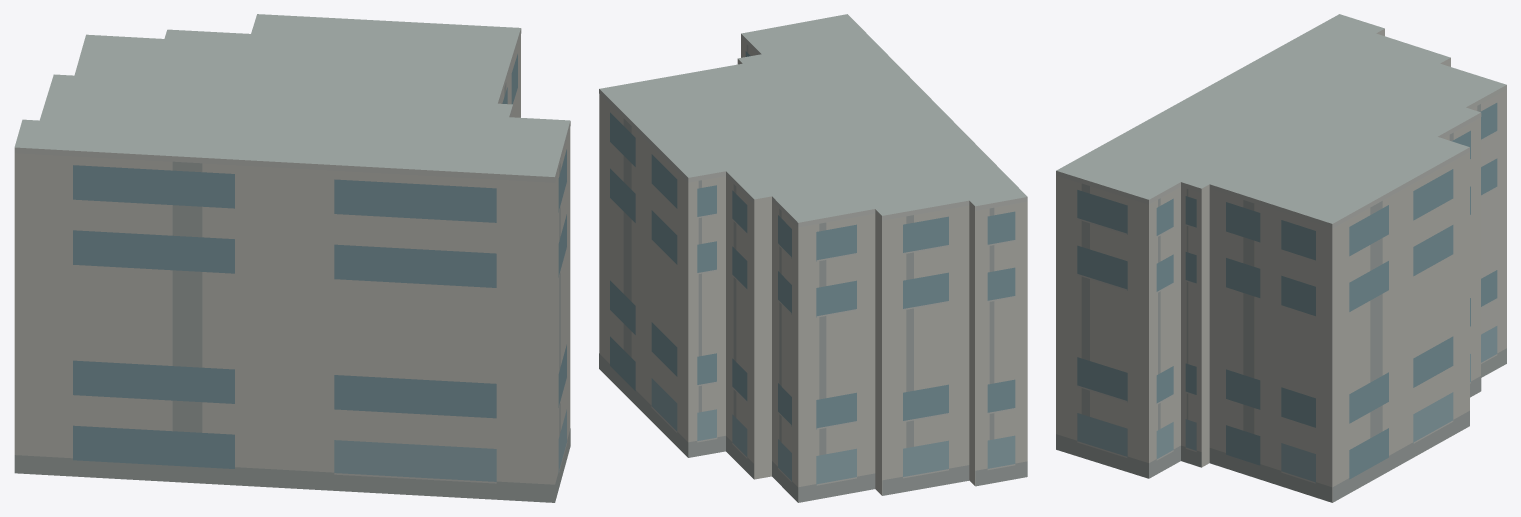
File: survey-upis-32584568.glb
3 renders of one model, left to right at view 1: azimuth 30°, elevation 25°; view 2: azimuth 150°, elevation 25°; view 3: azimuth 270°, elevation 25°, orthographic. The views are drawn at different scales.
Parts seen in each view (by area): view 1: survey-upis-32584568.tmp; view 2: survey-upis-32584568.tmp; view 3: survey-upis-32584568.tmp.
Boxes of the visible parts, x1,y1,x2,y2 form: survey-upis-32584568.tmp: [14, 14, 570, 502]; survey-upis-32584568.tmp: [599, 14, 1027, 502]; survey-upis-32584568.tmp: [1056, 14, 1506, 502].
Size of the model in its own units: 23.25 by 14.4 by 21.1.
